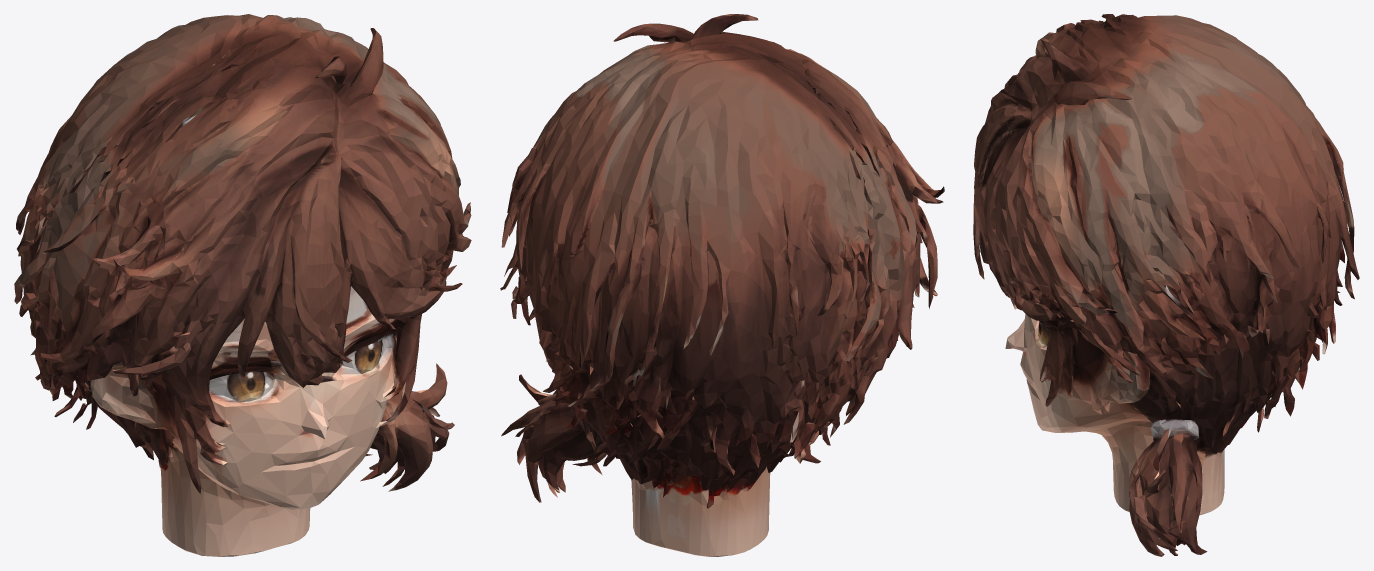
The model's file is side_ryoichi_repaired_atlas.glb.
The picture shows the model from 3 angles, left to right: view 1: azimuth 30°, elevation 25°; view 2: azimuth 150°, elevation 25°; view 3: azimuth 270°, elevation 25°; orthographic projection. The views are drawn at different scales.
Parts seen in each view (by area): view 1: temp_mesh.ply; view 2: temp_mesh.ply; view 3: temp_mesh.ply.
Part boxes in pixels (x1,y1,x2,y2): temp_mesh.ply: [14, 14, 471, 556]; temp_mesh.ply: [500, 14, 944, 556]; temp_mesh.ply: [973, 14, 1359, 556].
Bounding box in the file's own units: 1.72 × 1.97 × 1.49.
Materials: 1 (1 with a texture image).
